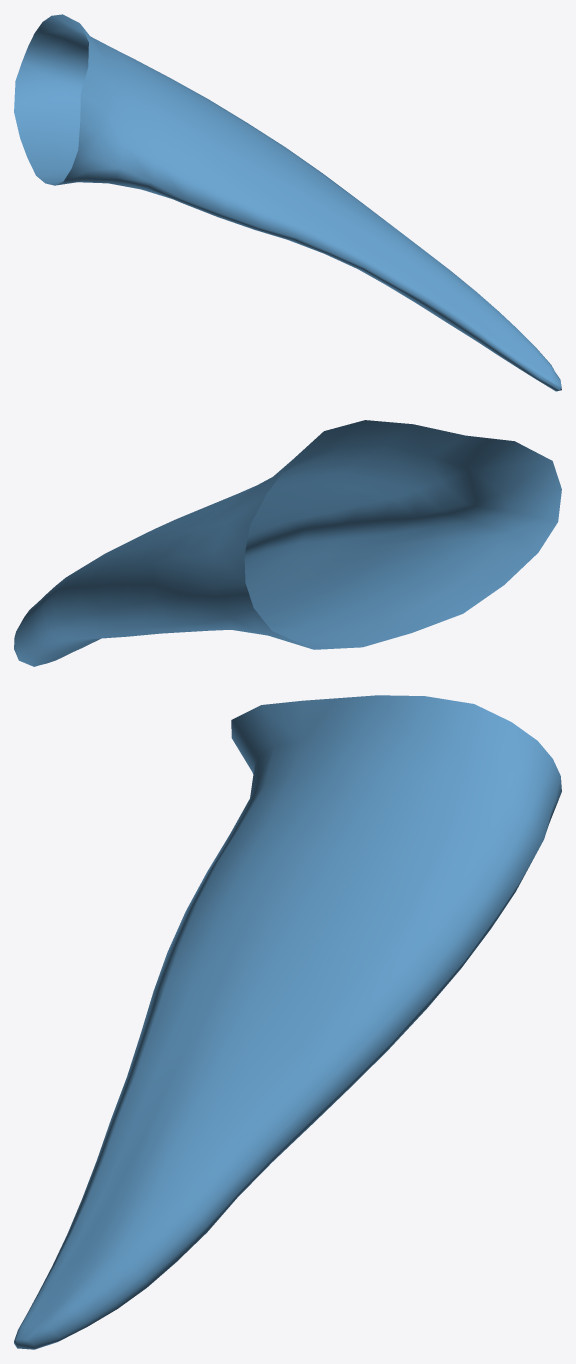
File: aletas_der_2.obj
3 views of the same model, one above another, from view 1: azimuth 30°, elevation 25°; view 2: azimuth 150°, elevation 25°; view 3: azimuth 270°, elevation 25° (orthographic). The views are drawn at different scales.
Visible parts, largest first — view 1: aletas_der_shark.002; view 2: aletas_der_shark.002; view 3: aletas_der_shark.002.
Boxes of the visible parts, x1,y1,x2,y2 form: aletas_der_shark.002: (14,14,561,391); aletas_der_shark.002: (14,420,561,666); aletas_der_shark.002: (14,695,561,1349).
Size of the model in its own units: 15.34 by 11.88 by 13.29.
